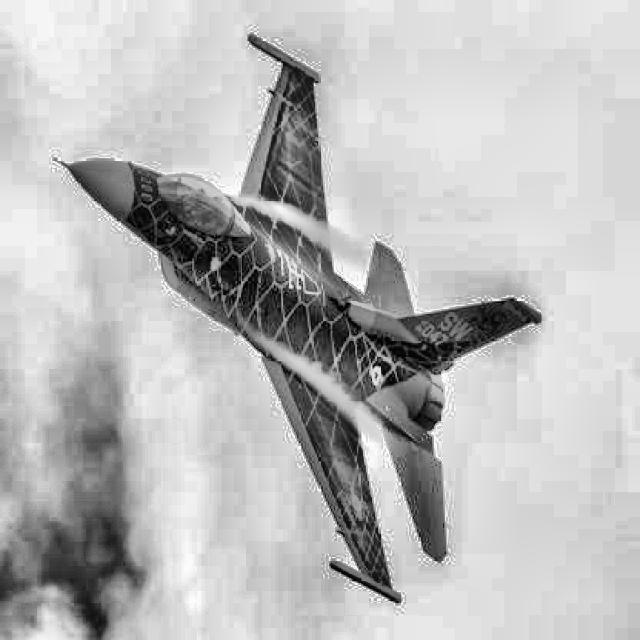F16: (52, 32, 543, 605)
